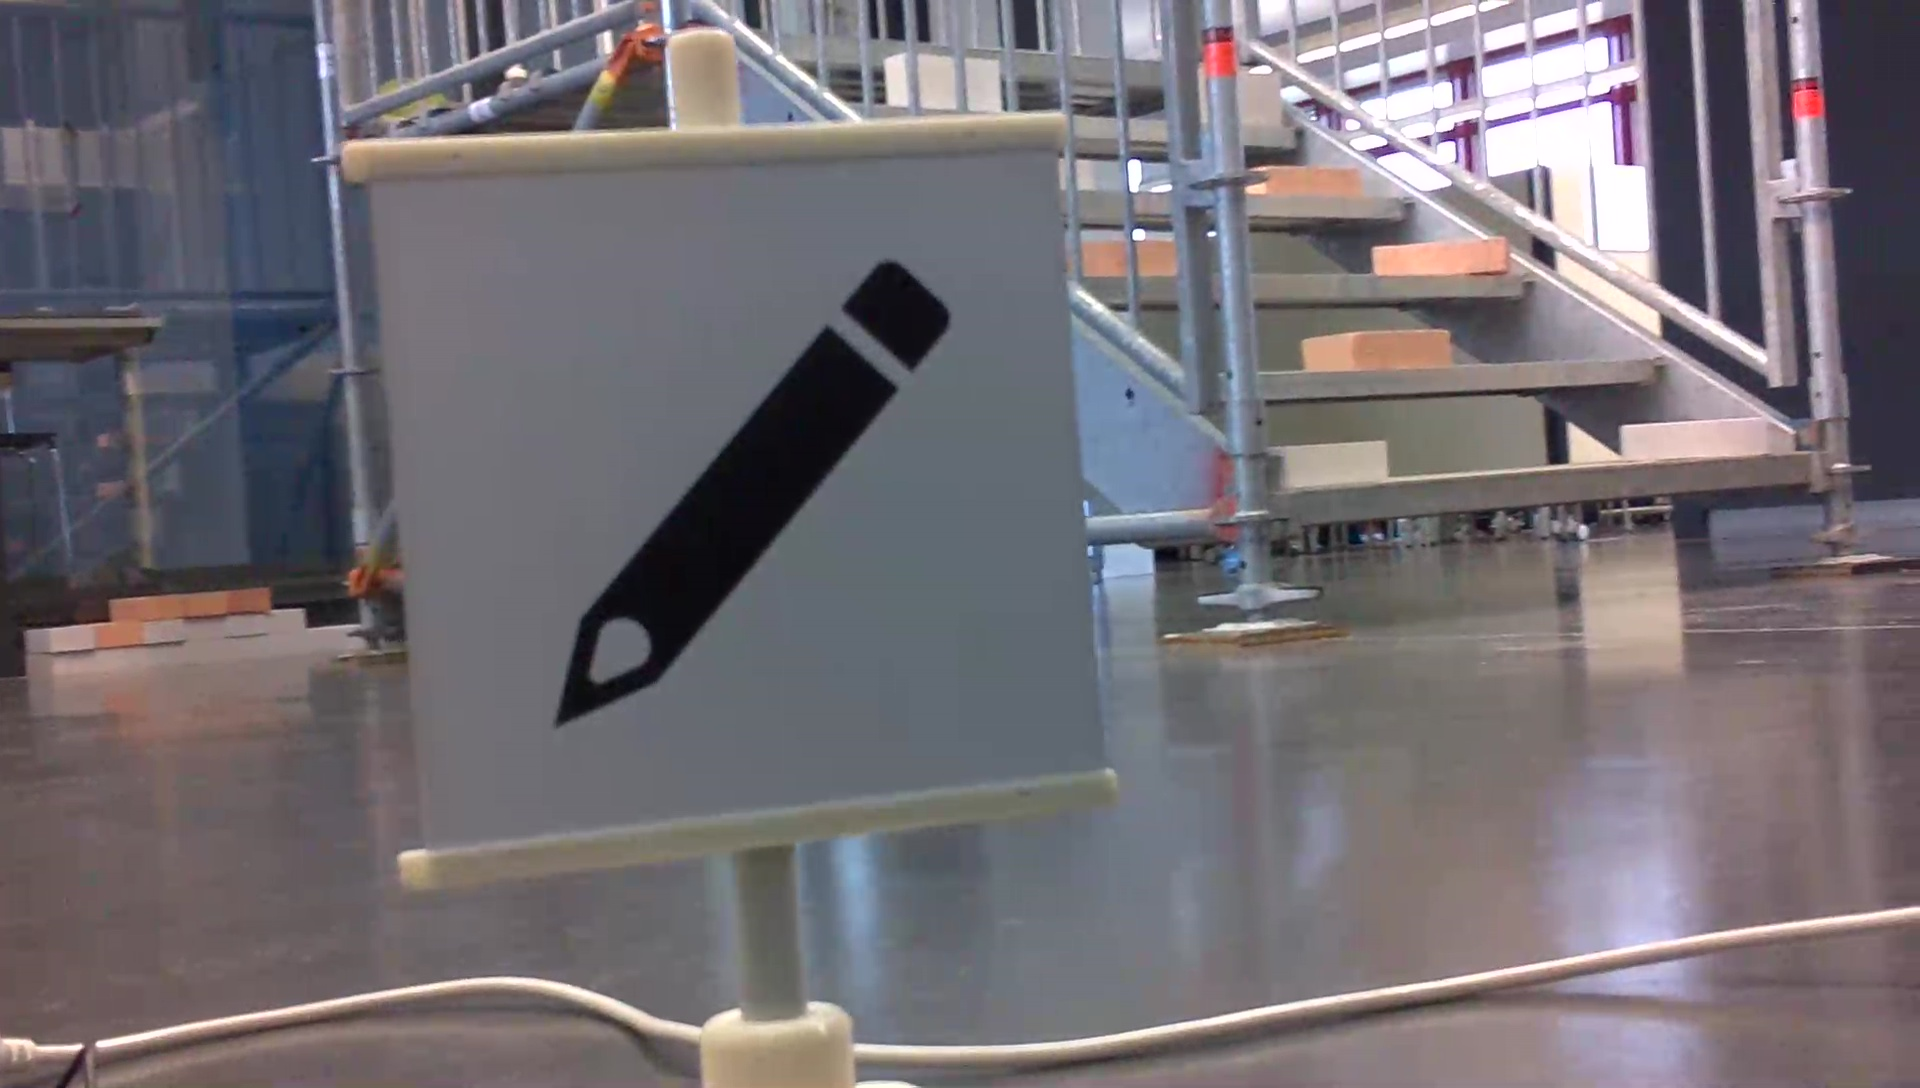brick: (1622, 418, 1764, 456), (1280, 437, 1382, 487), (1371, 239, 1505, 276), (1304, 334, 1447, 367), (1255, 165, 1362, 207), (1232, 70, 1278, 119)
edge: (1286, 454, 1805, 522), (1259, 355, 1665, 393)
pencil: (531, 239, 963, 742)
stairs: (1156, 0, 1917, 648)
